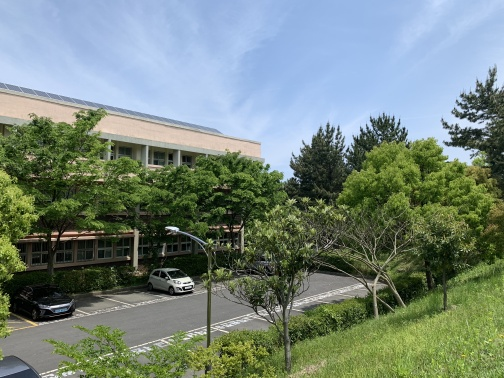College Of Education: (1, 71, 270, 299)
